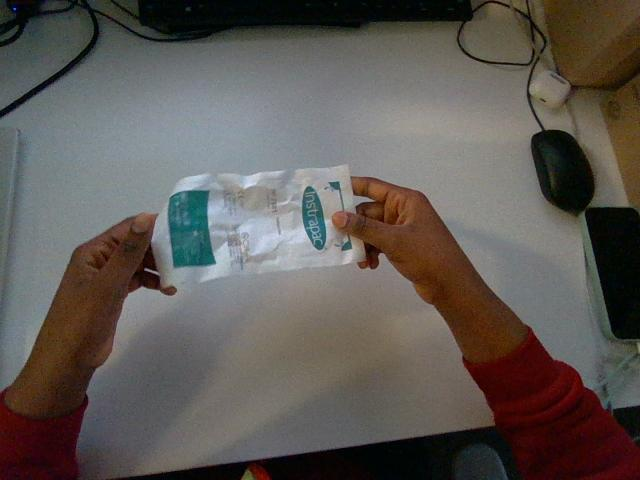gallipot: (152, 165, 365, 286)
